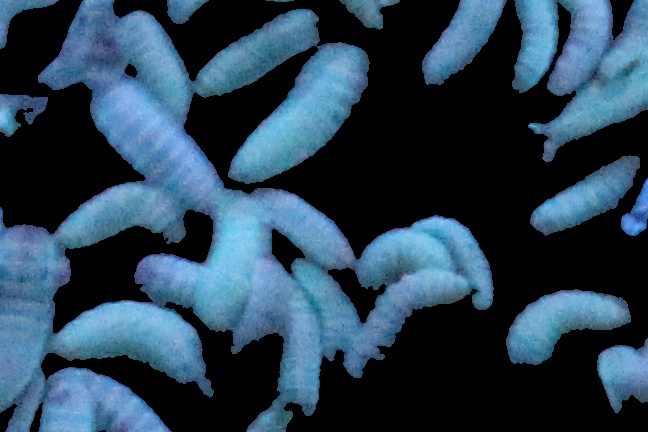larvae: (85, 65, 226, 213), (228, 42, 373, 184), (55, 301, 223, 410), (344, 270, 483, 379), (1, 223, 71, 421), (505, 286, 636, 389), (184, 12, 325, 83), (531, 155, 639, 234), (112, 15, 195, 117), (126, 256, 243, 328), (243, 189, 355, 263), (207, 194, 269, 324), (417, 1, 509, 87), (414, 218, 495, 311), (59, 189, 186, 244), (39, 1, 119, 87), (56, 373, 171, 432), (552, 1, 617, 101), (288, 263, 364, 344), (277, 292, 324, 409), (360, 223, 454, 281), (509, 1, 557, 98), (244, 252, 284, 361), (598, 2, 648, 80), (44, 385, 99, 431)
